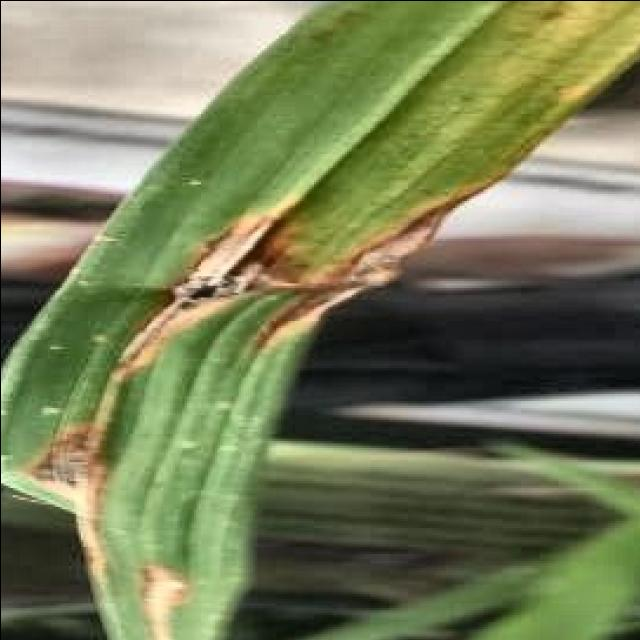Leaf_Blast: (99, 186, 492, 410)
